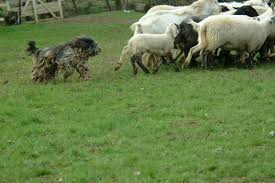sheep: (200, 11, 275, 67), (129, 5, 222, 44), (127, 27, 177, 76), (224, 1, 272, 27)
